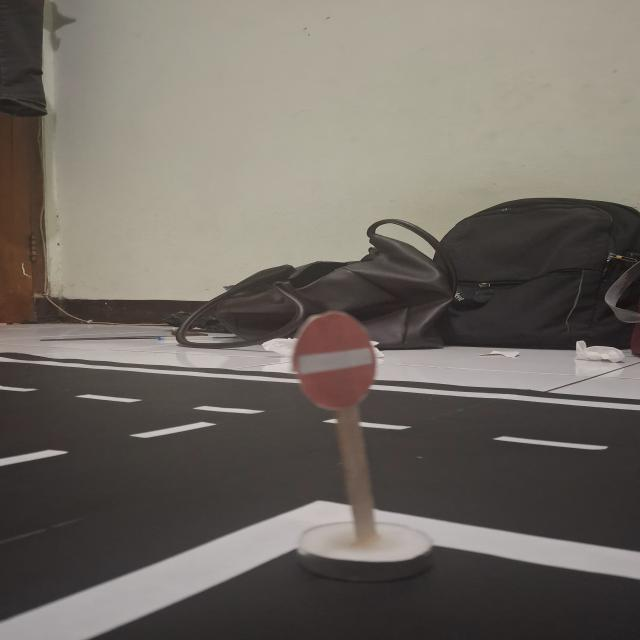Dilarang Masuk: (292, 312, 377, 411)
